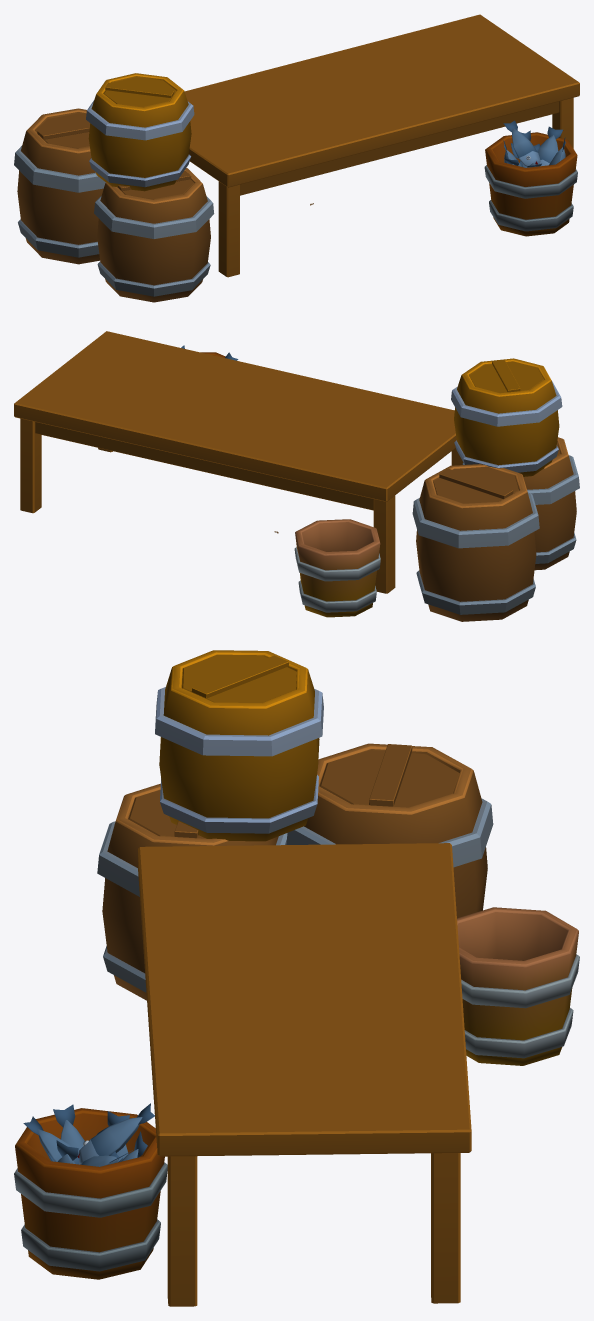
File: Fish_Market_lvl1.fbx
The picture shows the model from 3 angles, top to bottom: view 1: azimuth 30°, elevation 25°; view 2: azimuth 150°, elevation 25°; view 3: azimuth 270°, elevation 25°; orthographic projection. The views are drawn at different scales.
Parts seen in each view (by area): view 1: Fish_Market_lvl1_Table, Fish_Market_lvl1_Barrel, Fish_Market_lvl1_Barrel.001, Fish_Market_lvl1_Barrel.002, Fish_Market_lvl1_Bucket_With_Fish; view 2: Fish_Market_lvl1_Table, Fish_Market_lvl1_Barrel.001, Fish_Market_lvl1_Barrel.002, Fish_Market_lvl3_Bucket_with_Fish2.001, Fish_Market_lvl1_Barrel; view 3: Fish_Market_lvl1_Table, Fish_Market_lvl1_Barrel.002, Fish_Market_lvl1_Bucket_With_Fish, Fish_Market_lvl1_Barrel.001, Fish_Market_lvl3_Bucket_with_Fish2.001, Fish_Market_lvl1_Barrel.
Boxes of the visible parts, x1=… form: Fish_Market_lvl1_Table: x1=184, y1=14, x2=579, y2=277; Fish_Market_lvl1_Barrel: x1=94, y1=168, x2=214, y2=302; Fish_Market_lvl1_Barrel.001: x1=14, y1=108, x2=105, y2=264; Fish_Market_lvl1_Barrel.002: x1=86, y1=73, x2=194, y2=191; Fish_Market_lvl1_Bucket_With_Fish: x1=484, y1=120, x2=577, y2=236; Fish_Market_lvl1_Table: x1=14, y1=331, x2=463, y2=593; Fish_Market_lvl1_Barrel.001: x1=412, y1=464, x2=539, y2=621; Fish_Market_lvl1_Barrel.002: x1=451, y1=358, x2=562, y2=476; Fish_Market_lvl3_Bucket_with_Fish2.001: x1=294, y1=519, x2=380, y2=617; Fish_Market_lvl1_Barrel: x1=462, y1=437, x2=579, y2=570; Fish_Market_lvl1_Table: x1=138, y1=843, x2=471, y2=1306; Fish_Market_lvl1_Barrel.002: x1=155, y1=650, x2=323, y2=841; Fish_Market_lvl1_Bucket_With_Fish: x1=14, y1=1103, x2=167, y2=1279; Fish_Market_lvl1_Barrel.001: x1=286, y1=743, x2=493, y2=918; Fish_Market_lvl3_Bucket_with_Fish2.001: x1=457, y1=907, x2=579, y2=1065; Fish_Market_lvl1_Barrel: x1=97, y1=783, x2=287, y2=1000.
Bounding box in the file's own units: 366 × 133 × 224.
